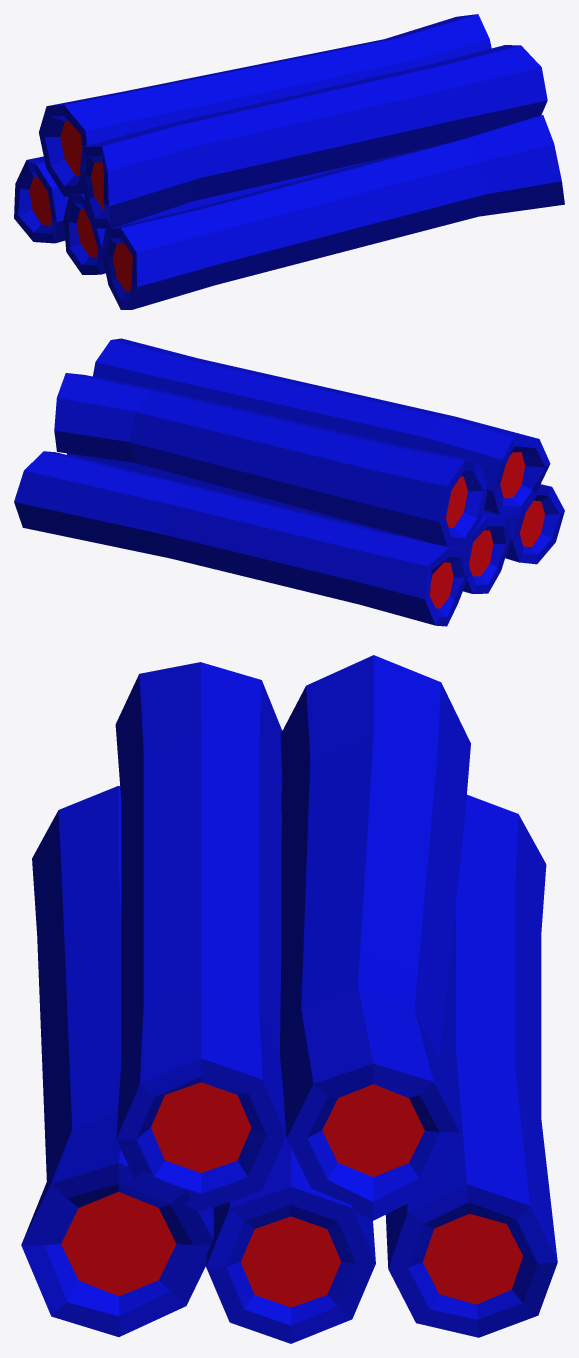
The model's file is SM_Long_LogStack3.fbx.
3 views of the same model, one above another, from view 1: azimuth 30°, elevation 25°; view 2: azimuth 150°, elevation 25°; view 3: azimuth 270°, elevation 25° (orthographic). The views are drawn at different scales.
Parts seen in each view (by area): view 1: SM_Long_LogStack3; view 2: SM_Long_LogStack3; view 3: SM_Long_LogStack3.
Part boxes in pixels (x1,y1,x2,y2): SM_Long_LogStack3: [14, 14, 564, 309]; SM_Long_LogStack3: [14, 338, 564, 626]; SM_Long_LogStack3: [21, 655, 557, 1343].
Bounding box in the file's own units: 191 × 63.52 × 104.
